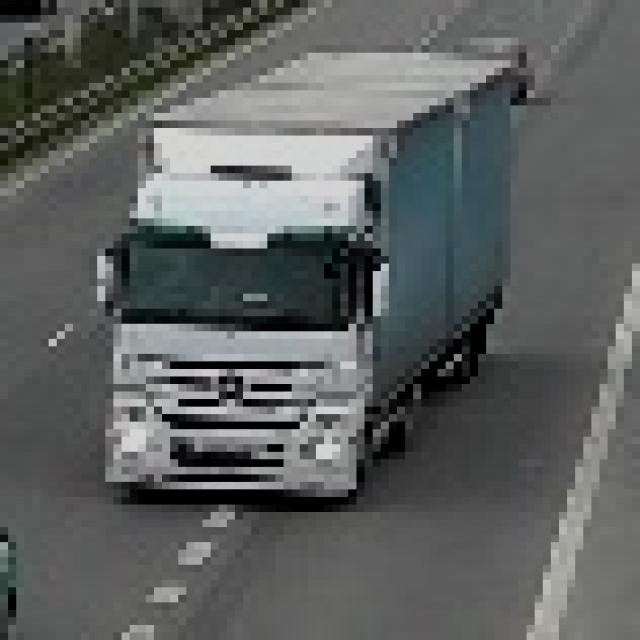TRUCK: (105, 52, 519, 505)
